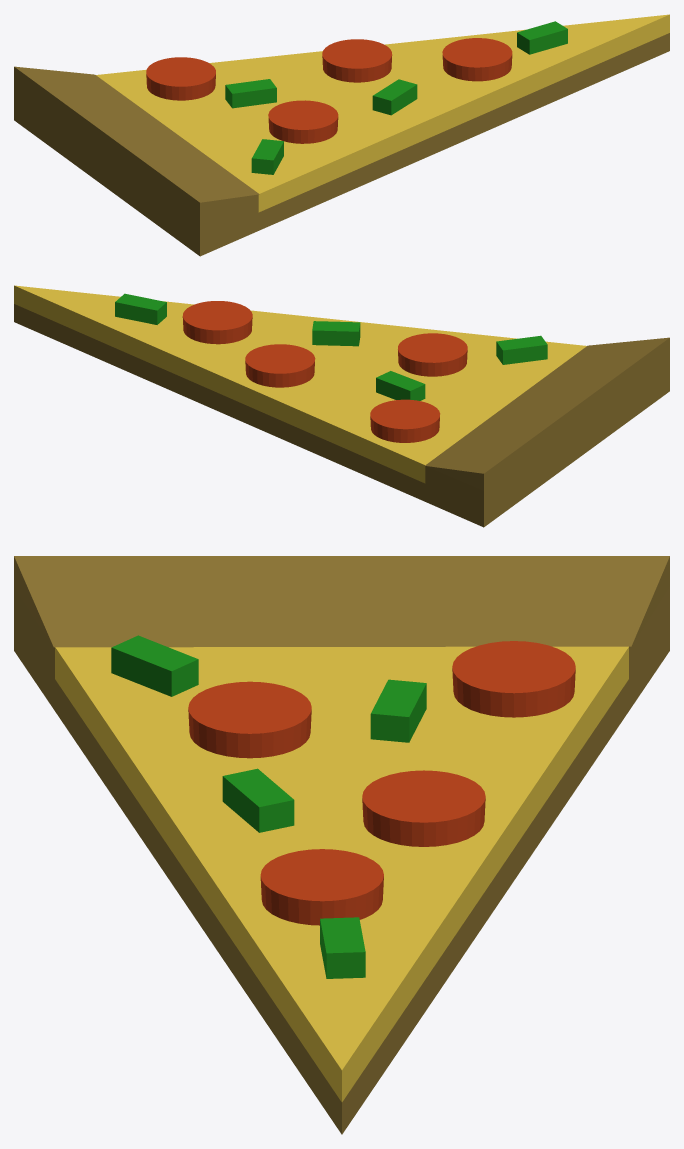
Rendered from Pizza Slice.fbx.
The picture shows the model from 3 angles, top to bottom: view 1: azimuth 30°, elevation 25°; view 2: azimuth 150°, elevation 25°; view 3: azimuth 270°, elevation 25°; orthographic projection. The views are drawn at different scales.
Parts seen in each view (by area): view 1: Cube.035; view 2: Cube.035; view 3: Cube.035.
Part boxes in pixels (bbox=[...]): Cube.035: bbox=[14, 14, 669, 256]; Cube.035: bbox=[14, 285, 669, 527]; Cube.035: bbox=[14, 556, 669, 1134].
Bounding box in the file's own units: 135 × 12.34 × 77.42.
